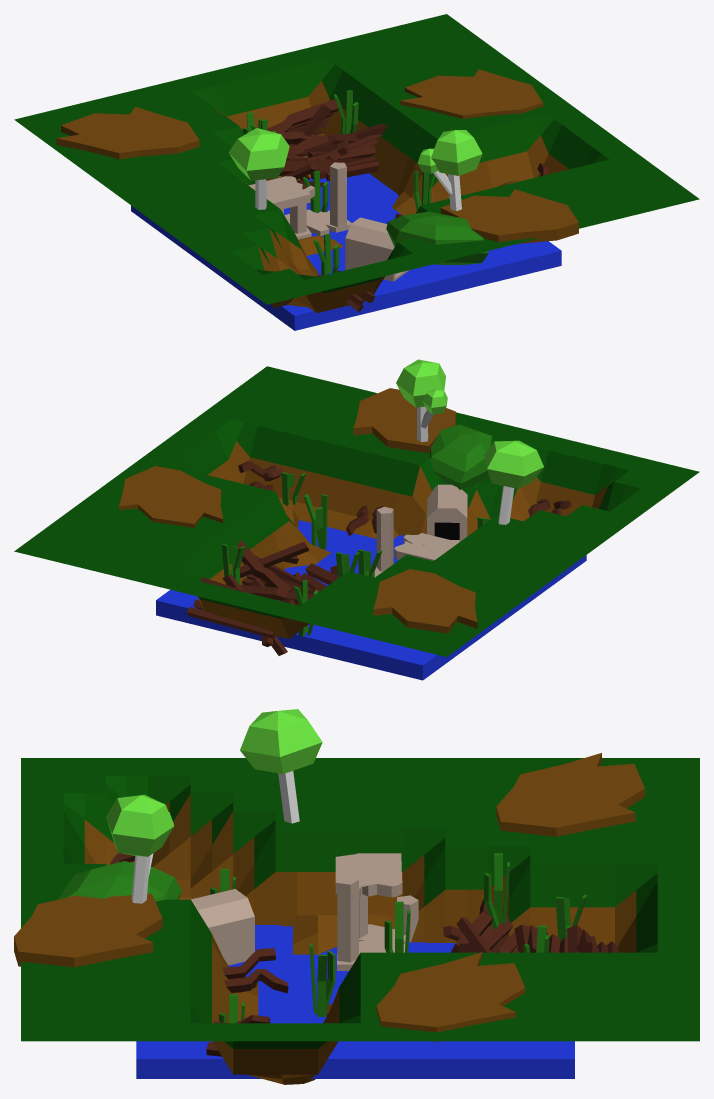
The model's file is forest_birch_beaver.glb.
The picture shows the model from 3 angles, top to bottom: view 1: azimuth 30°, elevation 25°; view 2: azimuth 150°, elevation 25°; view 3: azimuth 270°, elevation 25°; orthographic projection. The views are drawn at different scales.
Parts seen in each view (by area): view 1: ground, Water, GroundErath.002, GroundErath.003, GroundErath, Ruins1.002, bush.031, Tree1.004, Tree2.001, bieber.003, templeEntrance, bieber.004 (+5 smaller); view 2: ground, Water, GroundErath.002, GroundErath, GroundErath.003, bush.031, Tree2.001, Tree1.004, Ruins1.002, templeEntrance, bieber.003, bieber.004 (+5 smaller); view 3: ground, Water, GroundErath.002, GroundErath.003, GroundErath, Ruins1.002, Tree2.001, Tree1.004, templeEntrance, bush.031, bieber.002, roots.001 (+7 smaller).
Boxes of the visible parts, bbox=[...] form: ground: bbox=[14, 14, 699, 312]; Water: bbox=[131, 173, 561, 330]; GroundErath.002: bbox=[56, 107, 199, 159]; GroundErath.003: bbox=[440, 189, 578, 244]; GroundErath: bbox=[400, 69, 543, 118]; Ruins1.002: bbox=[248, 162, 351, 239]; bush.031: bbox=[386, 211, 488, 264]; Tree1.004: bbox=[417, 130, 482, 210]; Tree2.001: bbox=[228, 128, 289, 209]; bieber.003: bbox=[306, 124, 387, 180]; templeEntrance: bbox=[345, 217, 409, 281]; bieber.004: bbox=[267, 99, 342, 145]; ground: bbox=[14, 366, 699, 656]; Water: bbox=[156, 520, 586, 680]; GroundErath.002: bbox=[373, 569, 477, 633]; GroundErath: bbox=[119, 466, 222, 527]; GroundErath.003: bbox=[353, 388, 455, 453]; bush.031: bbox=[429, 424, 492, 489]; Tree2.001: bbox=[484, 440, 543, 524]; Tree1.004: bbox=[396, 359, 447, 442]; Ruins1.002: bbox=[374, 506, 459, 577]; templeEntrance: bbox=[427, 484, 467, 541]; bieber.003: bbox=[237, 540, 312, 591]; bieber.004: bbox=[187, 574, 295, 655]; ground: bbox=[21, 758, 699, 1074]; Water: bbox=[136, 924, 574, 1078]; GroundErath.002: bbox=[496, 753, 644, 836]; GroundErath.003: bbox=[14, 893, 162, 967]; GroundErath: bbox=[376, 952, 525, 1041]; Ruins1.002: bbox=[335, 853, 418, 970]; Tree2.001: bbox=[240, 709, 322, 823]; Tree1.004: bbox=[106, 794, 174, 903]; templeEntrance: bbox=[191, 889, 254, 965]; bush.031: bbox=[58, 861, 181, 901]; bieber.002: bbox=[443, 899, 519, 952]; roots.001: bbox=[222, 948, 288, 993].
Size of the model in its own units: 8.83 by 3.39 by 9.03.
